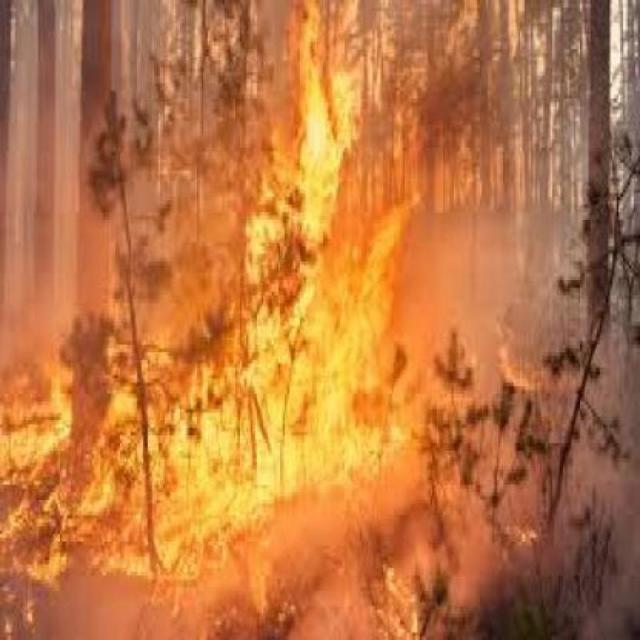Fire: (168, 294, 418, 549), (0, 358, 154, 626)
